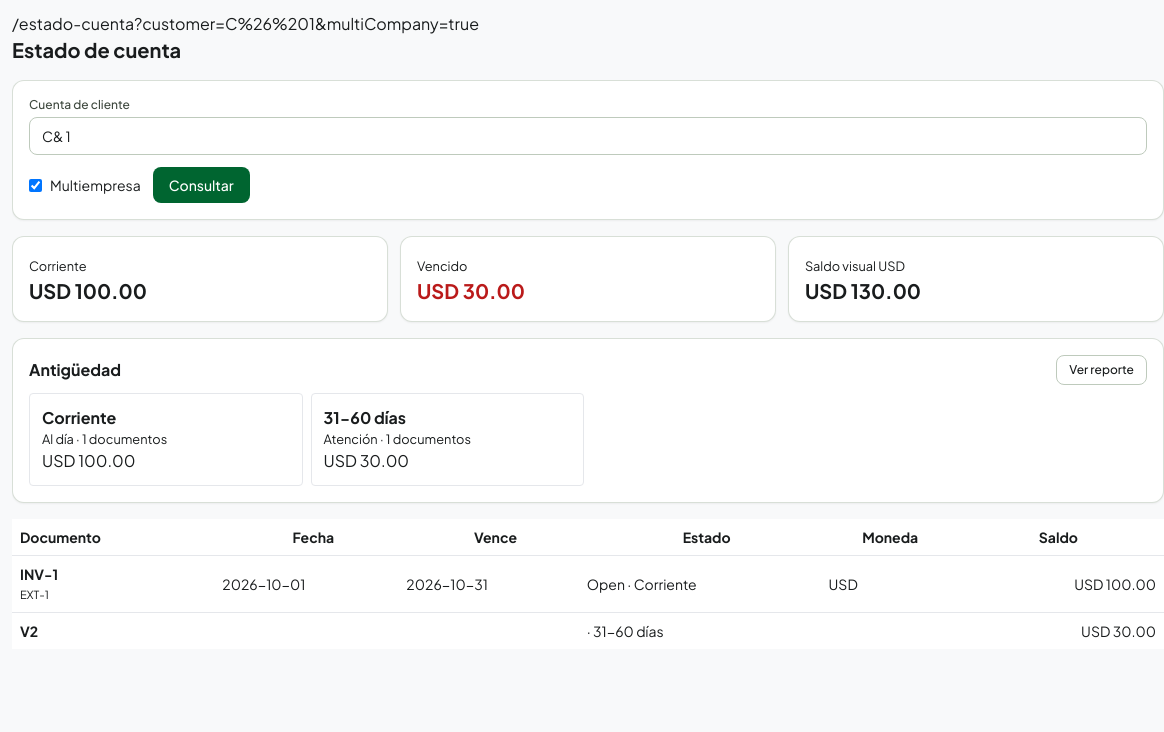
Test: AccountStatementPage › shows a recoverable error when PDF request fails
Click the button "Ver reporte" at point(1102, 370), box [1056,355,1147,385]
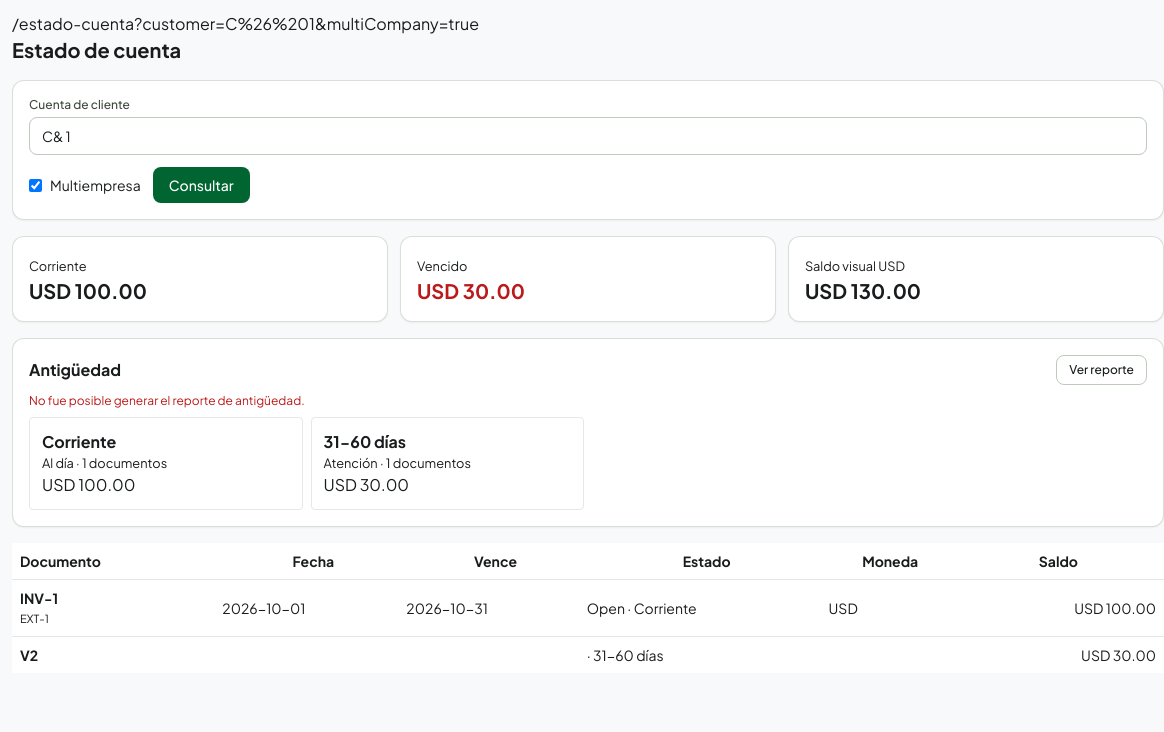
Check: the message reads "No fue posible generar el reporte de antigüedad.", box [29,393,305,408]
Click the button "Ver reporte" at point(1102, 370), box [1056,355,1147,385]
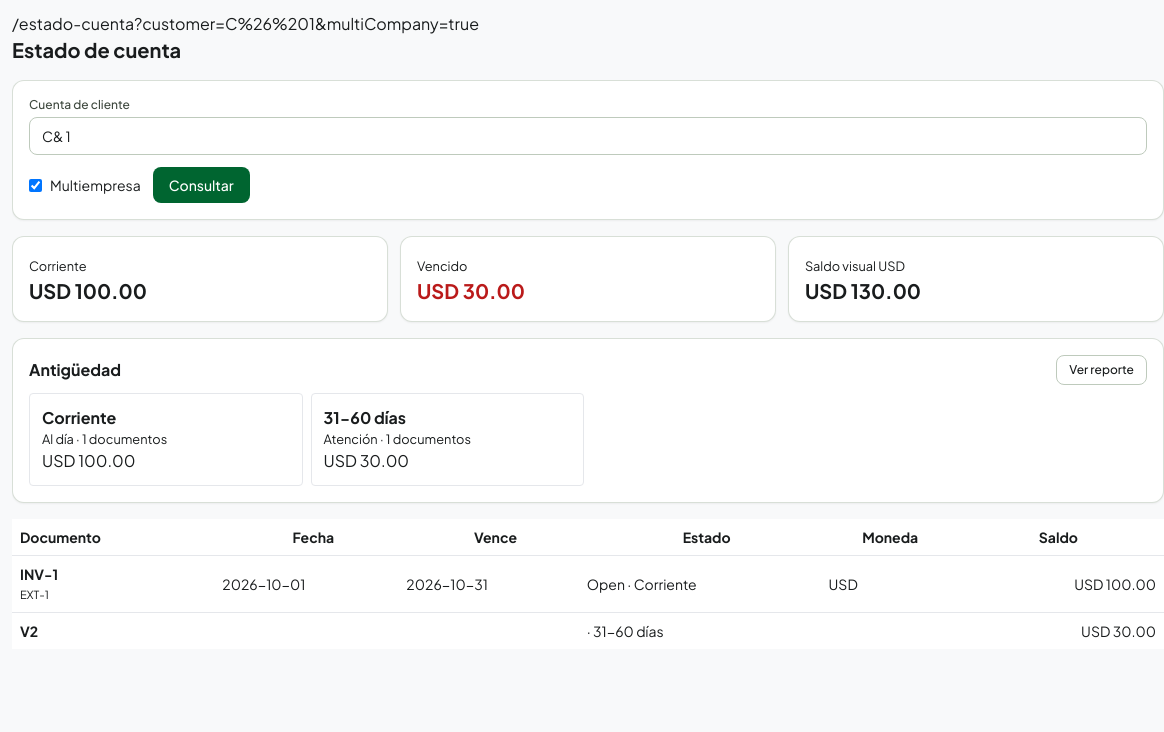
Check: the message "No fue posible generar el reporte de antigüedad." is gone
